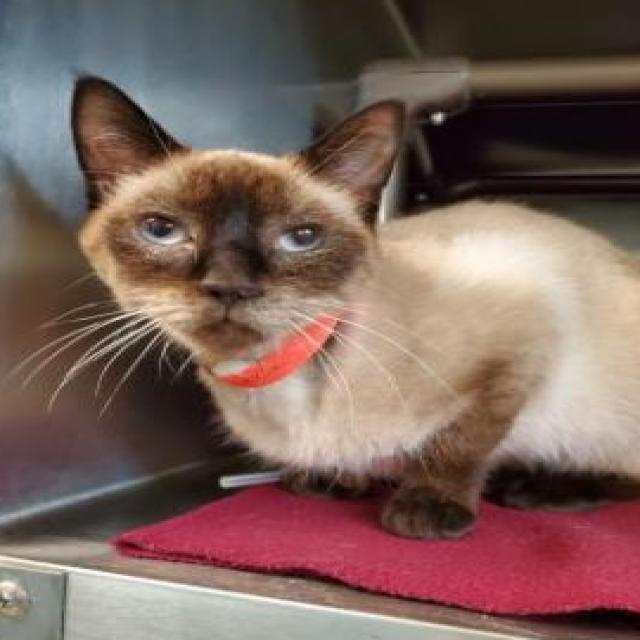Siamese: (64, 73, 640, 546)
